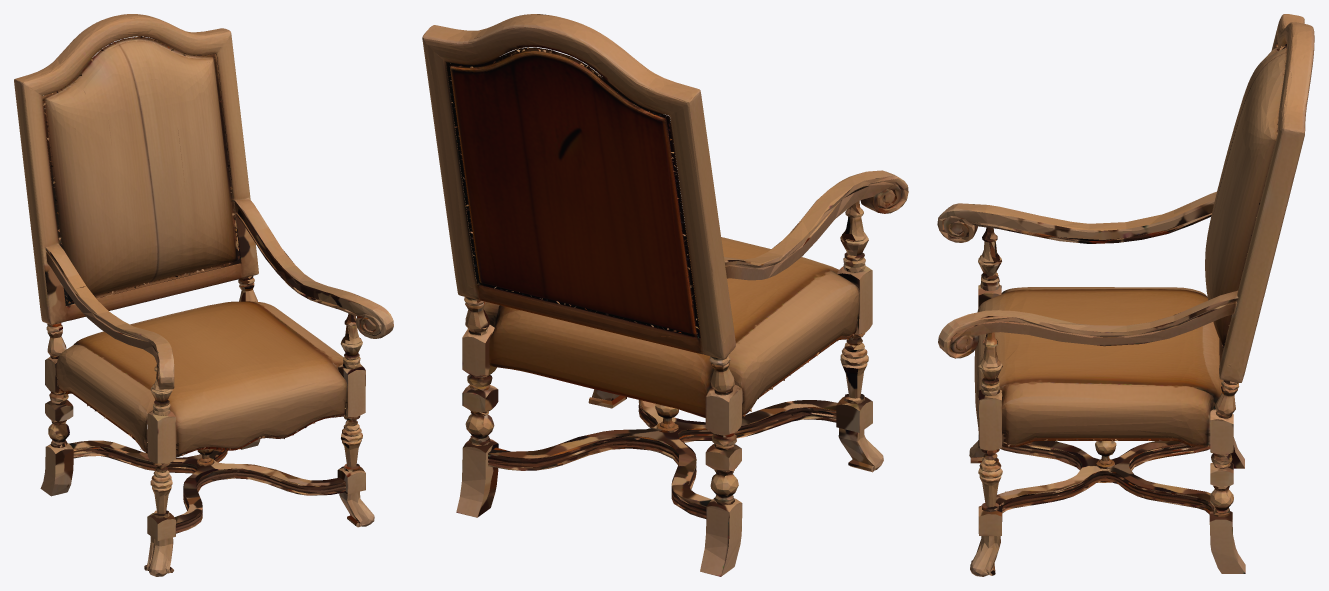
The model's file is edited_mesh.glb.
3 renders of one model, left to right at view 1: azimuth 30°, elevation 25°; view 2: azimuth 150°, elevation 25°; view 3: azimuth 270°, elevation 25°, orthographic. The views are drawn at different scales.
Visible parts, largest first — view 1: solid_001_wire; view 2: solid_001_wire; view 3: solid_001_wire.
Part boxes in pixels (bbox=[...]): solid_001_wire: bbox=[14, 14, 393, 576]; solid_001_wire: bbox=[422, 14, 908, 576]; solid_001_wire: bbox=[937, 14, 1314, 576].
Size of the model in its own units: 0.8481 by 1.48 by 1.04.
1 material, 1 textured.
